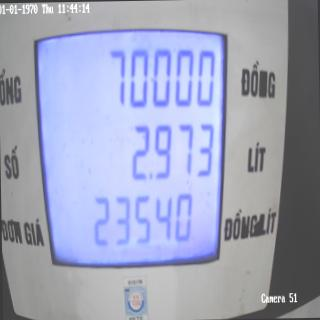screen: (29, 12, 236, 276)
